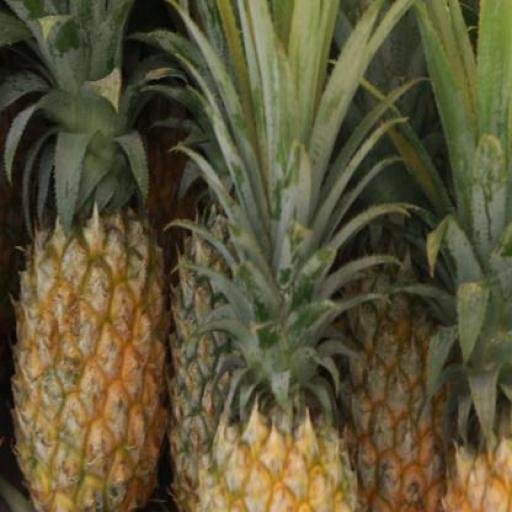------------------------------: (12, 206, 158, 510)
Pineapple - v8 v1: (213, 374, 372, 512)
